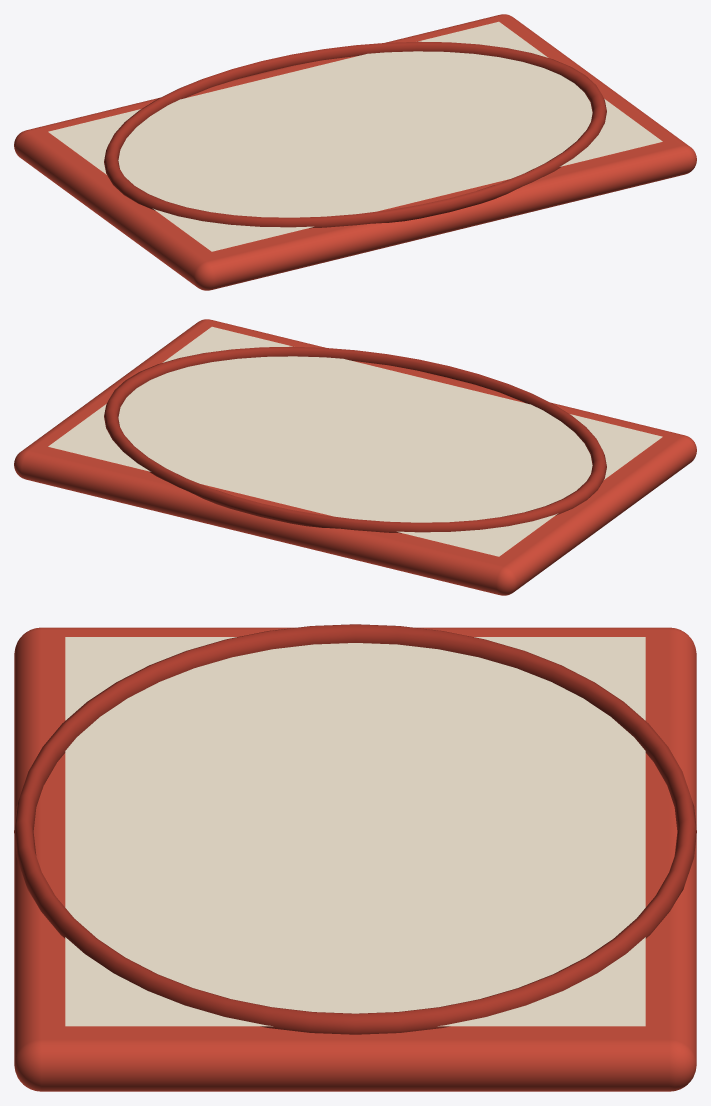
Rendered from tray.glb.
3 views of the same model, one above another, from view 1: azimuth 30°, elevation 25°; view 2: azimuth 150°, elevation 25°; view 3: azimuth 270°, elevation 25° (orthographic). The views are drawn at different scales.
Parts seen in each view (by area): view 1: TrayTop, tray; view 2: TrayTop, tray; view 3: TrayTop, tray.
Boxes of the visible parts, box(x1,y1,x2,y2) form: TrayTop: box(48, 21, 662, 251); tray: box(14, 14, 696, 290); TrayTop: box(48, 326, 662, 556); tray: box(14, 319, 696, 595); TrayTop: box(65, 637, 645, 1026); tray: box(14, 624, 696, 1091).
Bounding box in the file's own units: 3 × 0.2101 × 2.
